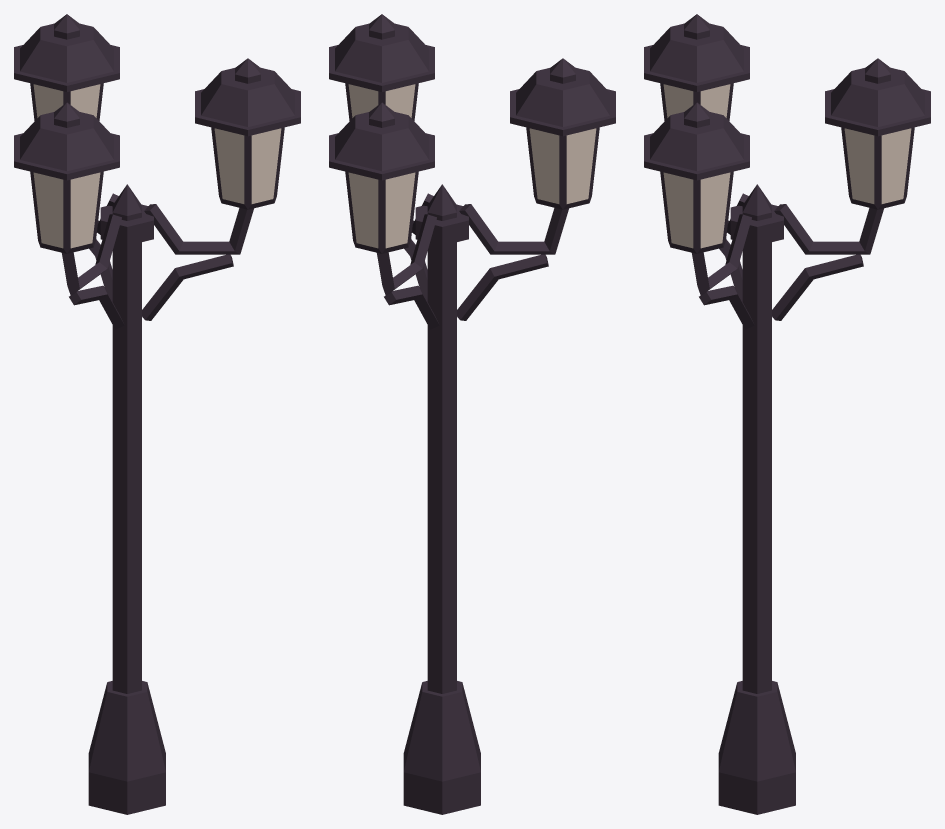
The model's file is streetLightB.FBX.
3 renders of one model, left to right at view 1: azimuth 30°, elevation 25°; view 2: azimuth 150°, elevation 25°; view 3: azimuth 270°, elevation 25°, orthographic.
Parts seen in each view (by area): view 1: streetLightB; view 2: streetLightB; view 3: streetLightB.
Boxes of the visible parts, bbox=[...] form: streetLightB: bbox=[14, 14, 300, 814]; streetLightB: bbox=[329, 14, 615, 814]; streetLightB: bbox=[644, 14, 930, 814].
Bounding box in the file's own units: 4.55 × 11.18 × 3.94.
